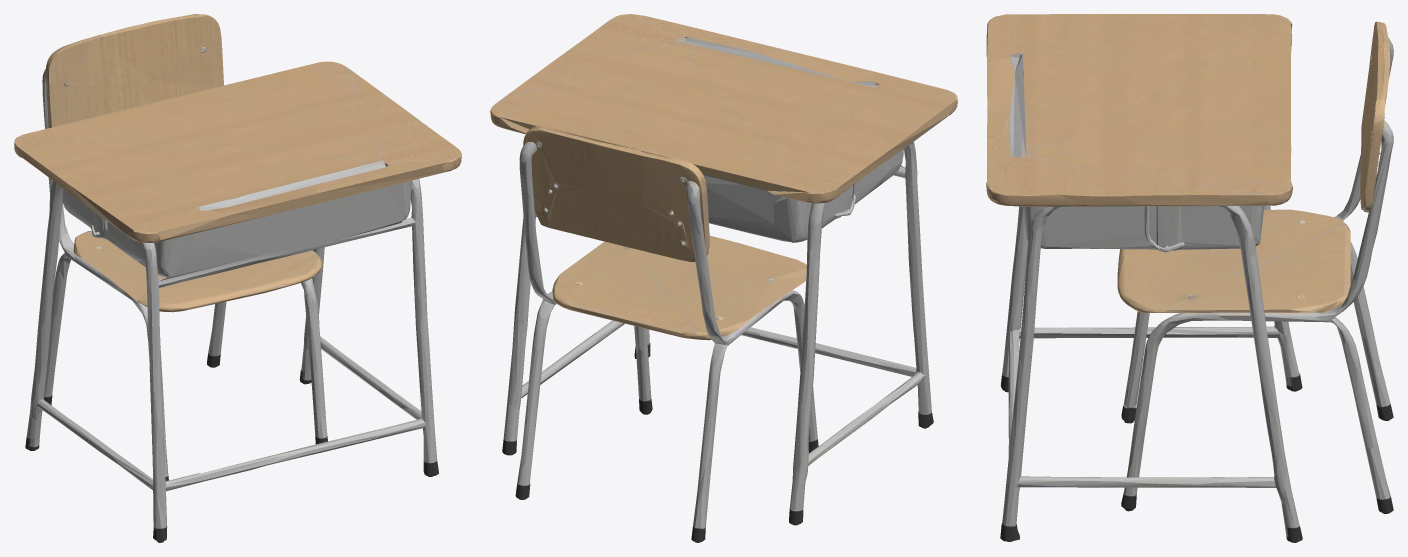
File: classroom_desk_chair.glb
3 views of the same model, side by side, from view 1: azimuth 30°, elevation 25°; view 2: azimuth 150°, elevation 25°; view 3: azimuth 270°, elevation 25° (orthographic). The views are drawn at different scales.
Parts seen in each view (by area): view 1: Mesh_0; view 2: Mesh_0; view 3: Mesh_0.
Part boxes in pixels (box(x1,y1,x2,y2)): Mesh_0: box(14, 14, 461, 542); Mesh_0: box(490, 14, 957, 542); Mesh_0: box(986, 14, 1393, 542).
Size of the model in its own units: 0.8604 by 0.9 by 0.8153.
Materials: 1 (1 with a texture image).
